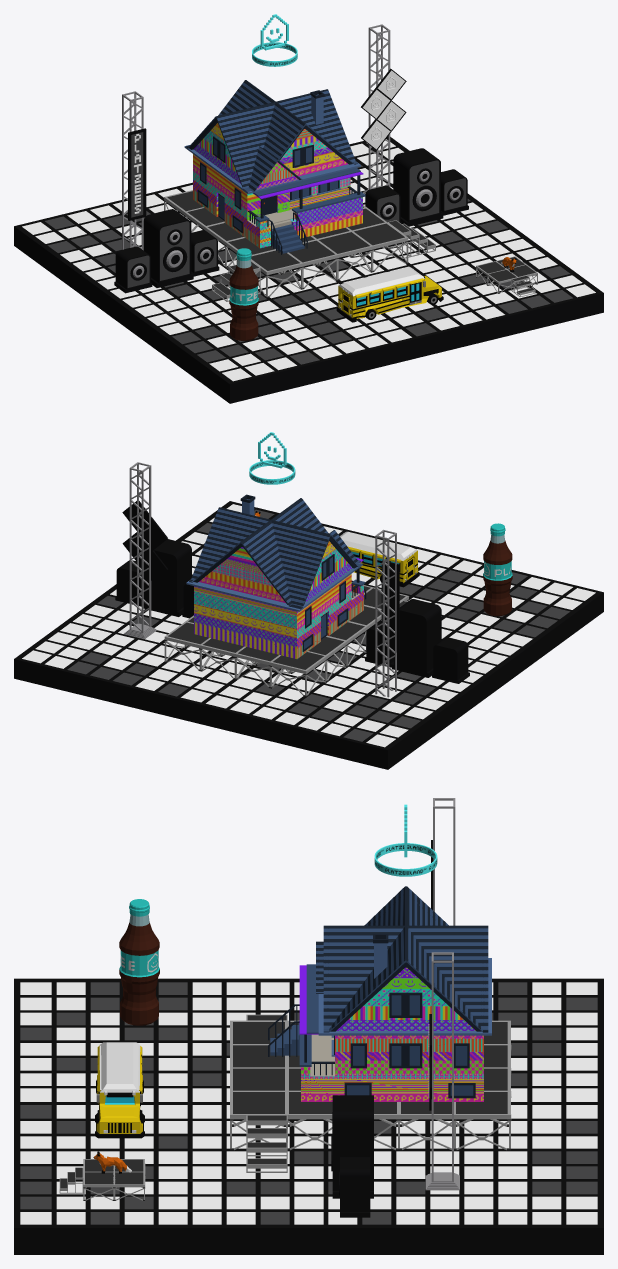
The picture shows the model from 3 angles, top to bottom: view 1: azimuth 30°, elevation 25°; view 2: azimuth 150°, elevation 25°; view 3: azimuth 270°, elevation 25°; orthographic projection. The views are drawn at different scales.
Visible parts, largest first — view 1: Cube.008, Cube.676, VEHICLES_SCHOOL_BUS, OBJRANDOM_PLATZEECOLA, TYPE_PREMIUM; view 2: Cube.008, Cube.676, OBJRANDOM_PLATZEECOLA, VEHICLES_SCHOOL_BUS, TYPE_PREMIUM; view 3: Cube.008, Cube.676, VEHICLES_SCHOOL_BUS, OBJRANDOM_PLATZEECOLA, TYPE_PREMIUM.
Part boxes in pixels (x1=…): Cube.008: x1=14, y1=24, x2=603, y2=403; Cube.676: x1=184, y1=80, x2=365, y2=254; VEHICLES_SCHOOL_BUS: x1=336, y1=267, x2=443, y2=322; OBJRANDOM_PLATZEECOLA: x1=229, y1=248, x2=258, y2=340; TYPE_PREMIUM: x1=252, y1=14, x2=297, y2=66; Cube.008: x1=14, y1=462, x2=603, y2=769; Cube.676: x1=186, y1=494, x2=366, y2=658; OBJRANDOM_PLATZEECOLA: x1=483, y1=523, x2=512, y2=616; VEHICLES_SCHOOL_BUS: x1=339, y1=531, x2=419, y2=587; TYPE_PREMIUM: x1=249, y1=432, x2=295, y2=484; Cube.008: x1=14, y1=798, x2=603, y2=1254; Cube.676: x1=268, y1=886, x2=491, y2=1101; VEHICLES_SCHOOL_BUS: x1=95, y1=1042, x2=144, y2=1138; OBJRANDOM_PLATZEECOLA: x1=119, y1=899, x2=159, y2=1025; TYPE_PREMIUM: x1=374, y1=804, x2=437, y2=876.
Size of the model in its own units: 4000 by 2519 by 4000.
Materials: 44 (6 with a texture image).
